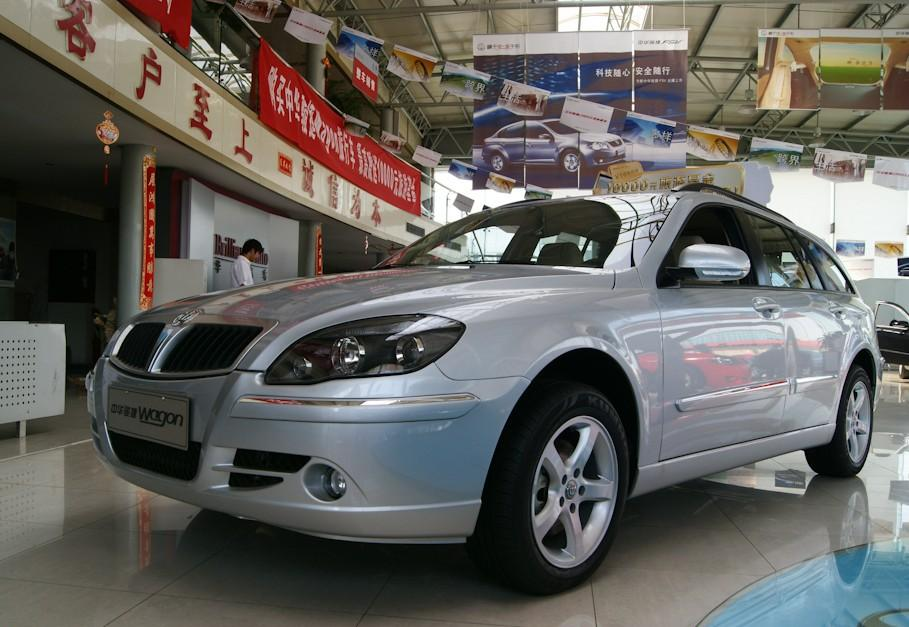Wagon: (87, 181, 882, 597)
